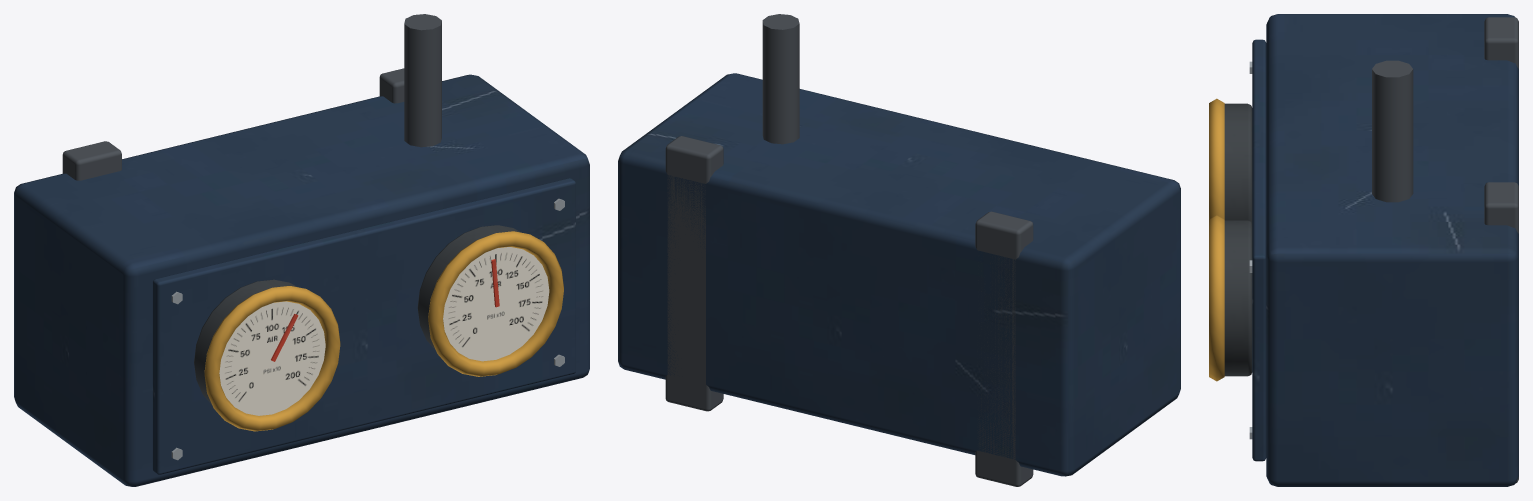
The model's file is WallBox_50_3.glb.
The picture shows the model from 3 angles, left to right: view 1: azimuth 30°, elevation 25°; view 2: azimuth 150°, elevation 25°; view 3: azimuth 270°, elevation 25°; orthographic projection. The views are drawn at different scales.
Visible parts, largest first — view 1: WallBox_50_3_Body; view 2: WallBox_50_3_Body; view 3: WallBox_50_3_Body.
Part boxes in pixels (x1,y1,x2,y2): WallBox_50_3_Body: (14,14,589,486); WallBox_50_3_Body: (618,14,1180,486); WallBox_50_3_Body: (1209,14,1518,486).
Bounding box in the file's own units: 0.5 × 0.37 × 0.2698.
Materials: 7 (4 with a texture image).
